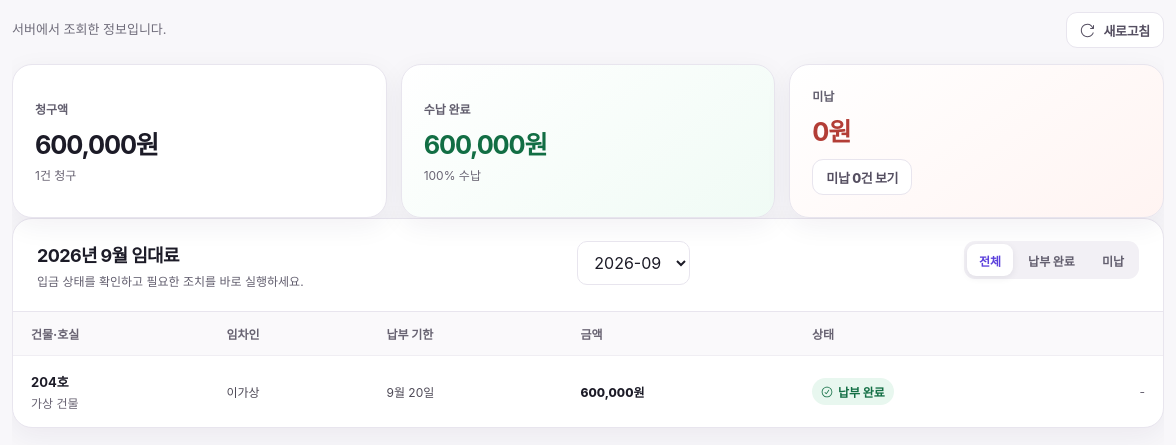
Test case: 실제 Query 캐시를 사용하는 운영 화면 › 최근 청구월을 기본으로 표시하고 월 선택에 맞춰 목록과 합계를 함께 바꾼다
This screenshot has width=1176, height=445.
Expected: the heading "2026년 9월 임대료" is shown, [37,245,179,266]
Expected: the text "203호" is not shown
Select "2026-08" in the dropdown named "청구월 선택" at (634, 263), box [577,241,690,285]
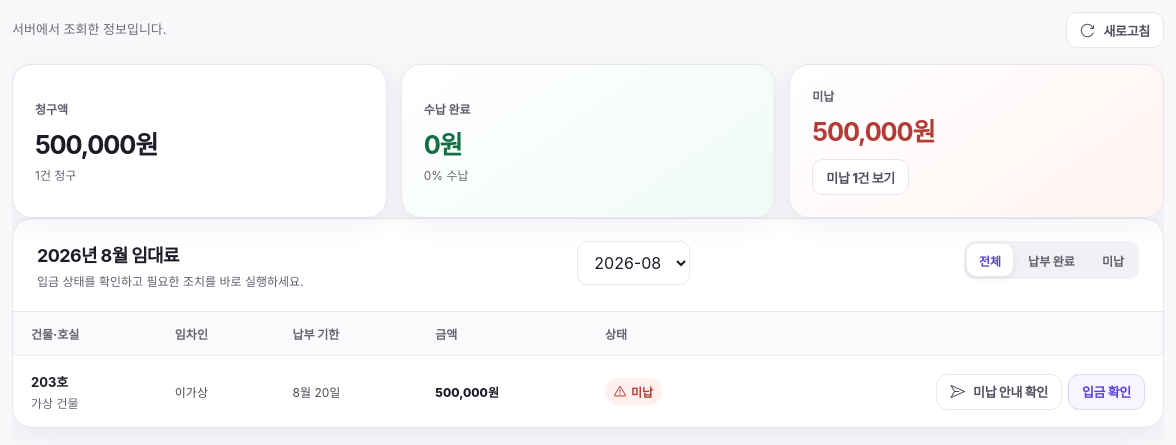
Now the heading "2026년 8월 임대료" is shown, box [37,245,179,266]
Now the text "203호" is shown, box [31,374,68,390]
Now the text "204호" is gone
